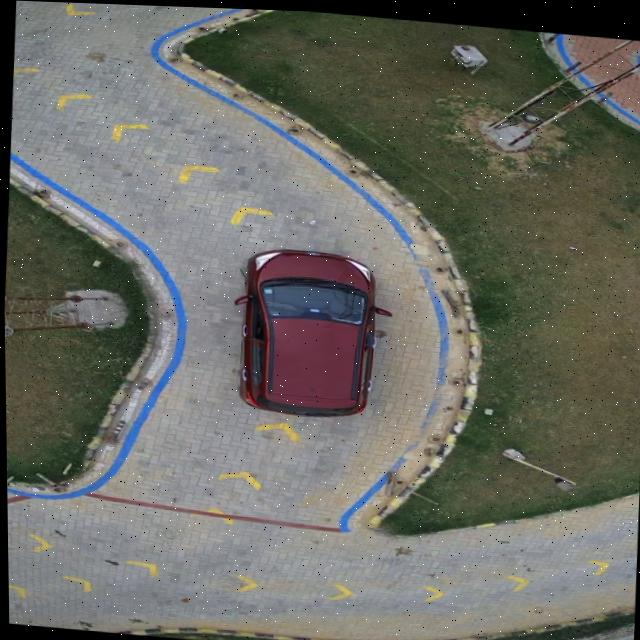car: (240, 247, 377, 414)
